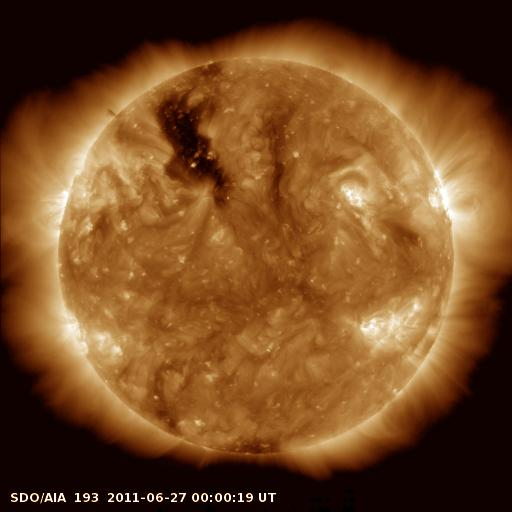coronal_hole: (151, 88, 241, 211)
